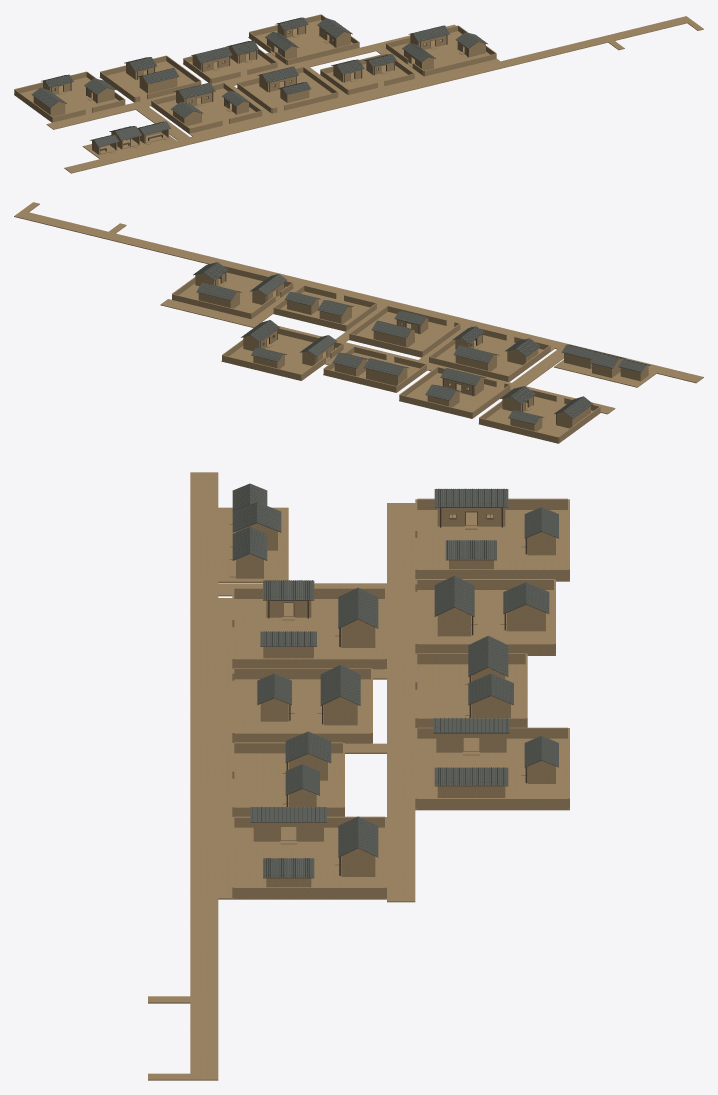
The picture shows the model from 3 angles, top to bottom: view 1: azimuth 30°, elevation 25°; view 2: azimuth 150°, elevation 25°; view 3: azimuth 270°, elevation 25°; orthographic projection. The views are drawn at different scales.
Visible parts, largest first — view 1: A1__GROUND__earth, A1__C04__earth, A1__C05__earth, A1__C08__earth, A1__C01__earth, A1__C02__earth, A1__C06__earth, A1__C03__earth, A1__C07__earth, A1__C04__tile, A1__C08__tile, A1__C01__tile (+8 smaller); view 2: A1__GROUND__earth, A1__C04__earth, A1__C05__earth, A1__C08__earth, A1__C01__earth, A1__C02__earth, A1__C07__earth, A1__C03__earth, A1__C06__earth, A1__C04__tile, A1__C08__tile, A1__C01__tile (+5 smaller); view 3: A1__GROUND__earth, A1__C08__earth, A1__C04__earth, A1__C05__earth, A1__C01__earth, A1__C06__earth, A1__C02__earth, A1__C04__tile, A1__C08__tile, A1__C05__tile, A1__C01__tile, A1__C07__earth (+7 smaller).
Boxes of the visible parts, x1,y1,x2,y2 form: A1__GROUND__earth: [14, 16, 703, 170]; A1__C04__earth: [386, 25, 496, 76]; A1__C05__earth: [14, 71, 125, 122]; A1__C08__earth: [249, 14, 359, 65]; A1__C01__earth: [151, 82, 262, 133]; A1__C02__earth: [237, 67, 338, 113]; A1__C06__earth: [100, 55, 201, 102]; A1__C03__earth: [320, 53, 414, 94]; A1__C07__earth: [183, 46, 277, 83]; A1__C04__tile: [402, 25, 487, 62]; A1__C08__tile: [265, 17, 352, 51]; A1__C01__tile: [171, 82, 250, 118]; A1__GROUND__earth: [14, 202, 688, 443]; A1__C04__earth: [172, 265, 293, 318]; A1__C05__earth: [479, 389, 600, 442]; A1__C08__earth: [222, 328, 343, 380]; A1__C01__earth: [429, 326, 550, 381]; A1__C02__earth: [349, 305, 460, 356]; A1__C07__earth: [323, 346, 426, 391]; A1__C03__earth: [273, 285, 376, 330]; A1__C06__earth: [399, 367, 510, 417]; A1__C04__tile: [193, 262, 286, 300]; A1__C08__tile: [241, 320, 336, 361]; A1__C01__tile: [453, 326, 540, 363]; A1__GROUND__earth: [148, 485, 569, 1080]; A1__C08__earth: [415, 727, 569, 808]; A1__C04__earth: [232, 816, 386, 898]; A1__C05__earth: [415, 498, 569, 580]; A1__C01__earth: [232, 588, 386, 669]; A1__C06__earth: [415, 579, 555, 654]; A1__C02__earth: [232, 668, 372, 743]; A1__C04__tile: [250, 807, 378, 877]; A1__C08__tile: [433, 717, 558, 785]; A1__C05__tile: [434, 488, 558, 559]; A1__C01__tile: [260, 580, 378, 646]; A1__C07__earth: [415, 653, 527, 727].
Size of the model in its own units: 204 by 5.09 by 60.
Materials: 3 (3 with a texture image).
